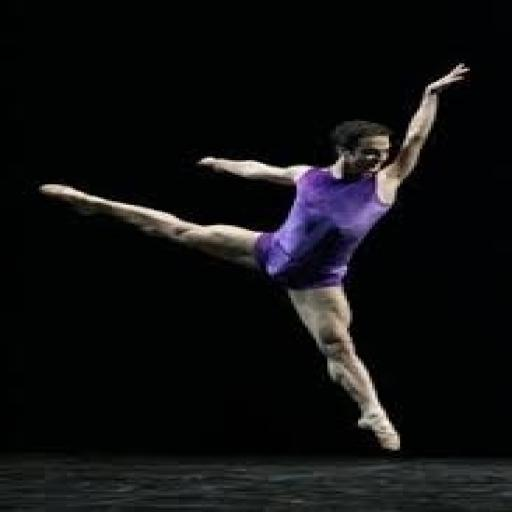dancing: (34, 60, 476, 456)
